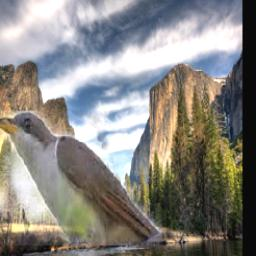Cuckoo: (0, 111, 162, 246)
